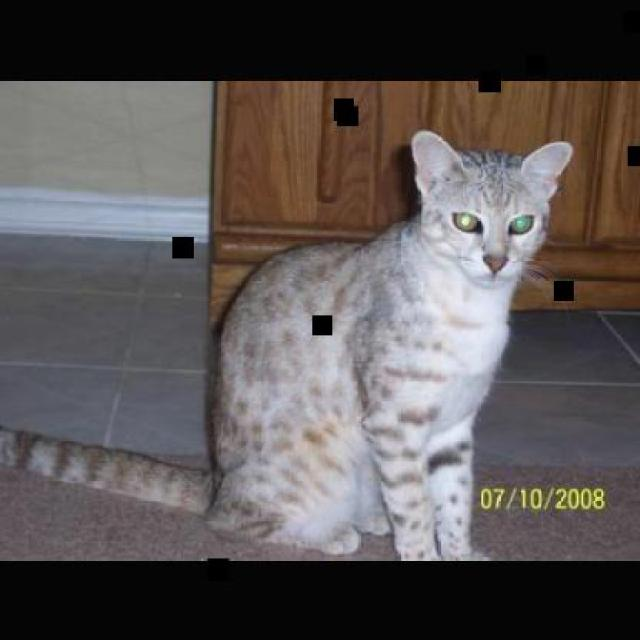unauthorized: (0, 128, 574, 560)
